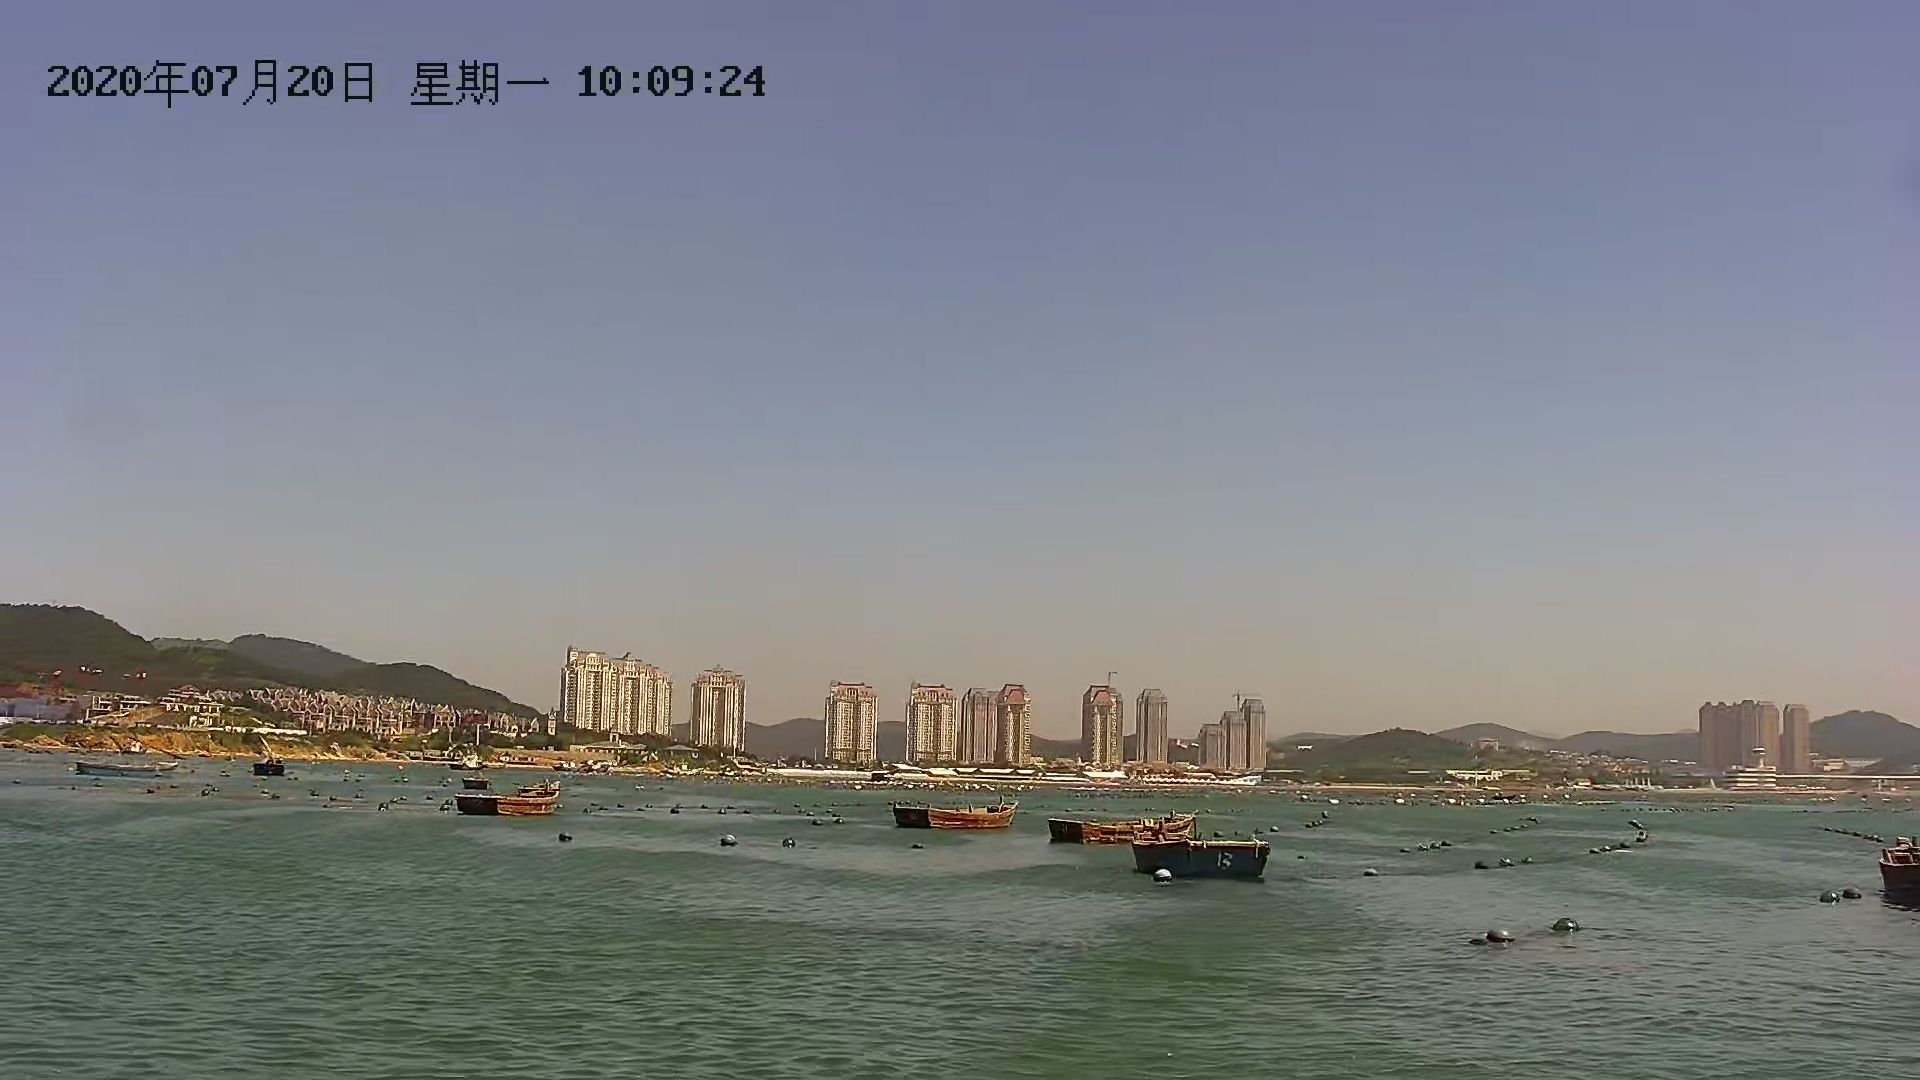ball: (1549, 913, 1586, 938), (1487, 923, 1514, 945), (1815, 887, 1844, 907), (721, 829, 738, 853)
boat: (1135, 833, 1269, 882), (1048, 812, 1199, 848), (893, 796, 1021, 833), (454, 787, 564, 825)
